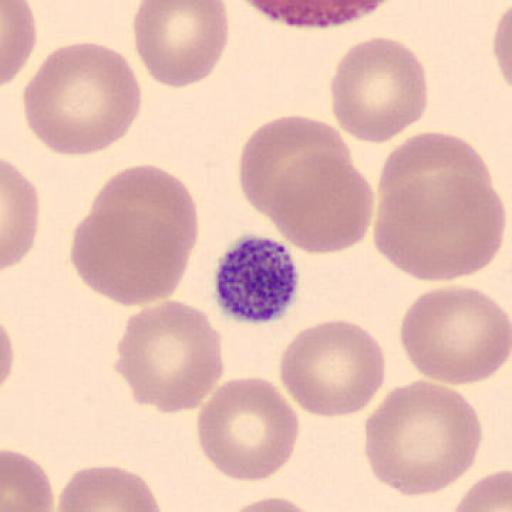Platelet: (211, 232, 302, 325)
RBC: (74, 164, 198, 308), (373, 168, 506, 282), (362, 378, 484, 498), (21, 39, 144, 158), (113, 298, 225, 414), (376, 130, 490, 240), (70, 204, 190, 308), (239, 113, 353, 220), (399, 284, 511, 386), (196, 375, 300, 483), (277, 317, 387, 419), (266, 152, 374, 254), (329, 36, 429, 146), (92, 162, 200, 261), (132, 0, 231, 89), (55, 464, 163, 512), (232, 0, 397, 31), (0, 157, 40, 272), (2, 447, 56, 512), (0, 0, 37, 87), (450, 468, 511, 512), (218, 493, 323, 512), (492, 0, 512, 95), (492, 5, 512, 80), (1, 319, 15, 392)
